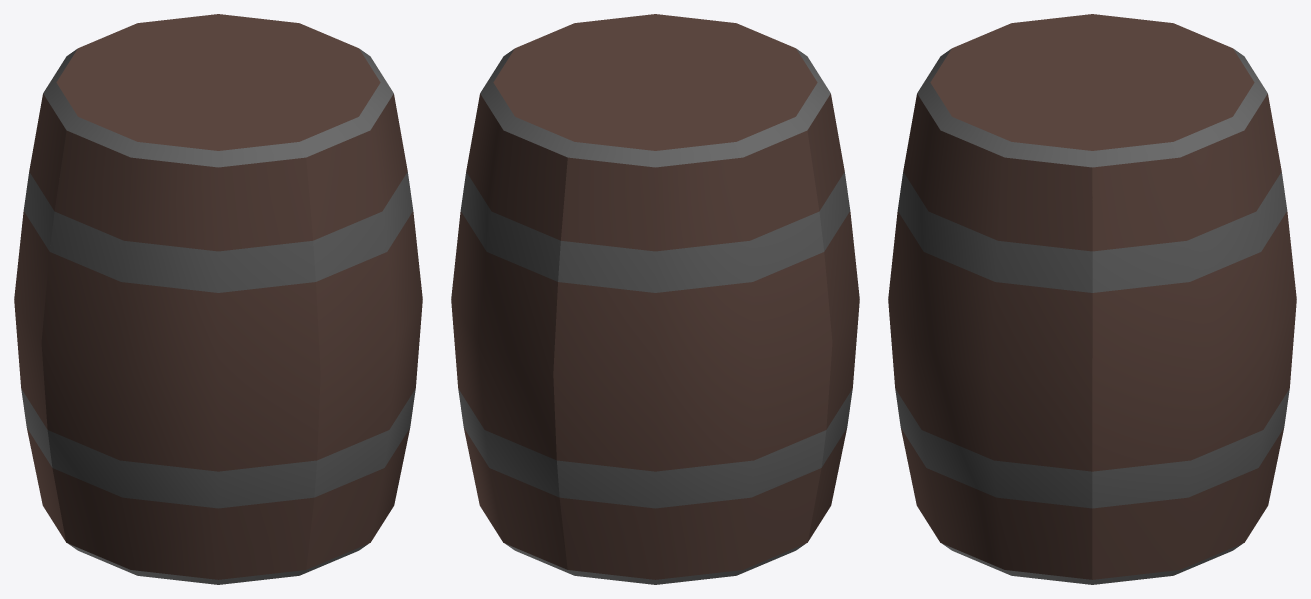
Rendered from BarrelSplit.fbx.
3 renders of one model, left to right at view 1: azimuth 30°, elevation 25°; view 2: azimuth 150°, elevation 25°; view 3: azimuth 270°, elevation 25°, orthographic.
Parts seen in each view (by area): view 1: BarrelSide4, BarrelTop, BarrelSide1, BarrelSide3, BarrelBottom; view 2: BarrelSide3, BarrelTop, BarrelSide2, BarrelSide4, BarrelBottom; view 3: BarrelSide1, BarrelSide2, BarrelTop, BarrelBottom.
Part boxes in pixels (<box>): BarrelSide4: <box>41,131,320,579</box>; BarrelTop: <box>43,14,393,167</box>; BarrelSide1: <box>306,94,422,569</box>; BarrelSide3: <box>14,94,66,542</box>; BarrelBottom: <box>68,543,368,584</box>; BarrelSide3: <box>553,131,832,579</box>; BarrelTop: <box>480,14,830,167</box>; BarrelSide2: <box>451,94,567,569</box>; BarrelSide4: <box>807,94,859,542</box>; BarrelBottom: <box>505,543,805,584</box>; BarrelSide1: <box>888,94,1092,579</box>; BarrelSide2: <box>1092,94,1296,579</box>; BarrelTop: <box>917,14,1267,167</box>; BarrelBottom: <box>942,543,1242,584</box>.
Bounding box in the file's own units: 0.8032 × 0.941 × 0.8032.
Materials: 1 (1 with a texture image).
